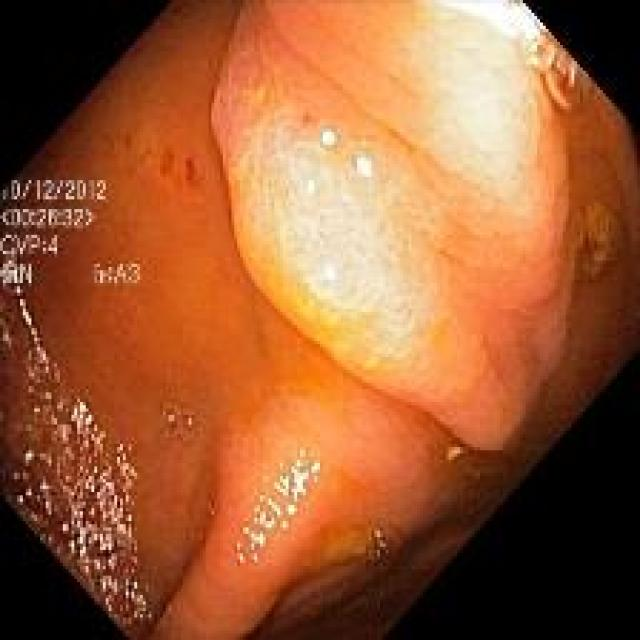Polyps: (211, 3, 575, 450)
